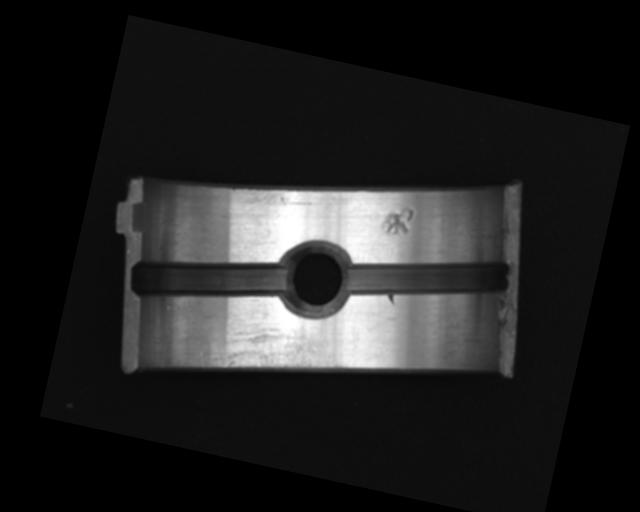bruise: (379, 201, 417, 239), (385, 292, 397, 307)
gap: (343, 232, 514, 326), (127, 232, 291, 324)
hole: (272, 235, 358, 323)
scratch: (195, 301, 347, 398)
